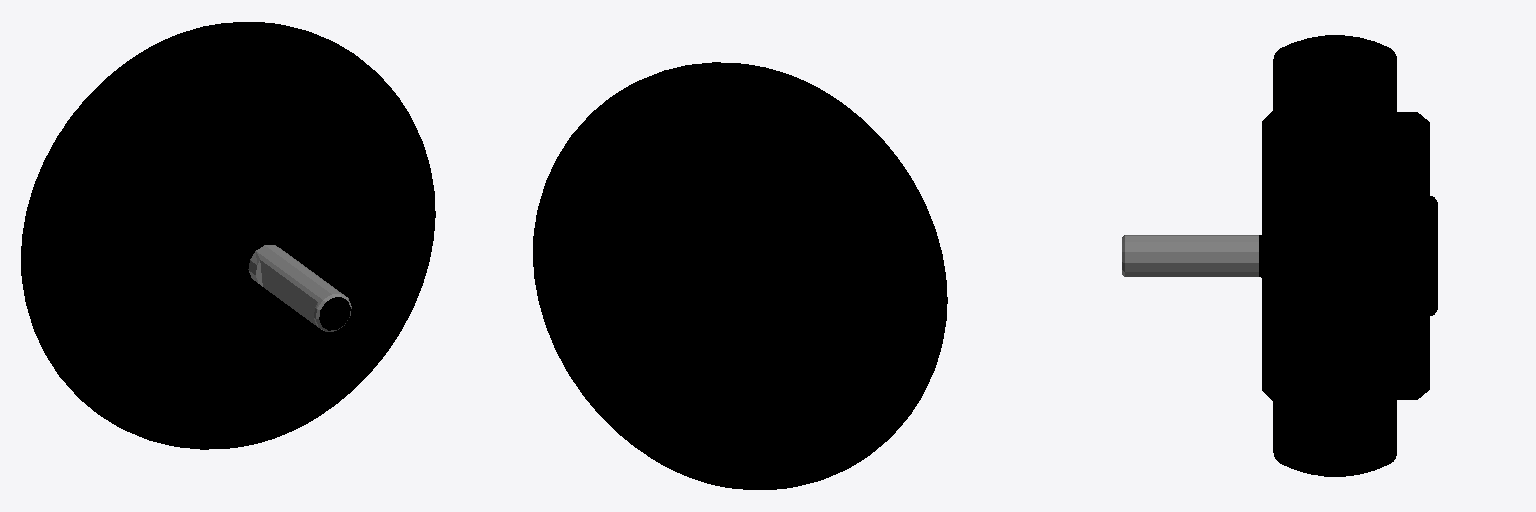
The model's file is drive_wheel.obj.
The picture shows the model from 3 angles: view 1: azimuth 30°, elevation 25°; view 2: azimuth 150°, elevation 25°; view 3: azimuth 270°, elevation 25°; orthographic projection.
Visible parts, largest first — view 1: lft_wheel_link; view 2: lft_wheel_link; view 3: lft_wheel_link.
Boxes of the visible parts, <box> form: lft_wheel_link: <box>21,22,435,449</box>; lft_wheel_link: <box>533,62,947,489</box>; lft_wheel_link: <box>1122,35,1437,476</box>.
Bounding box in the file's own units: 0.1679 × 0.1679 × 0.12.